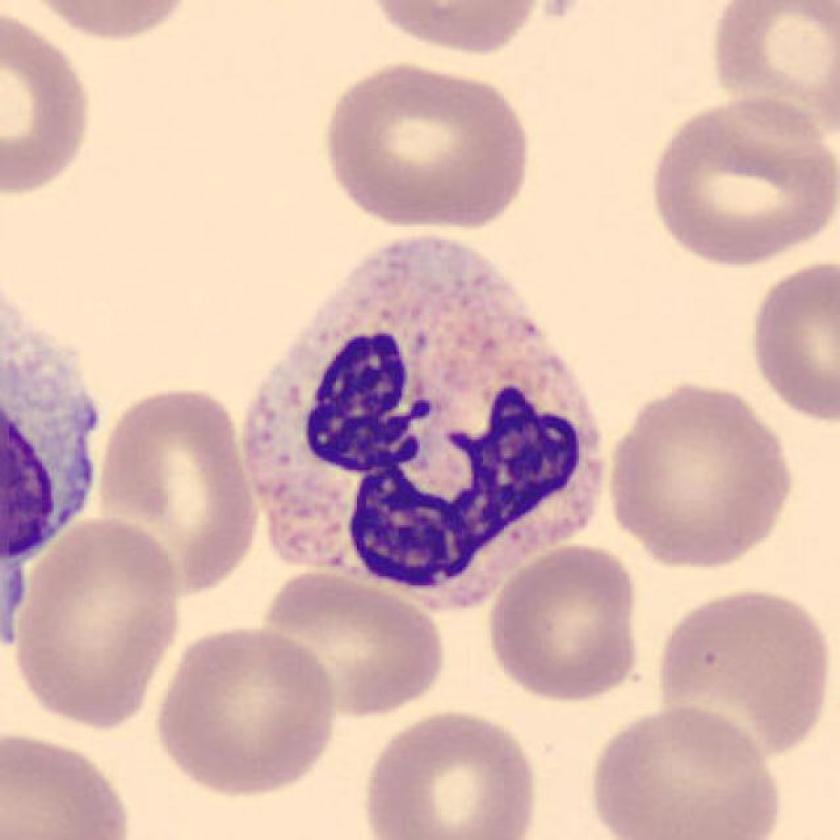neutrophil: (241, 235, 606, 610)
